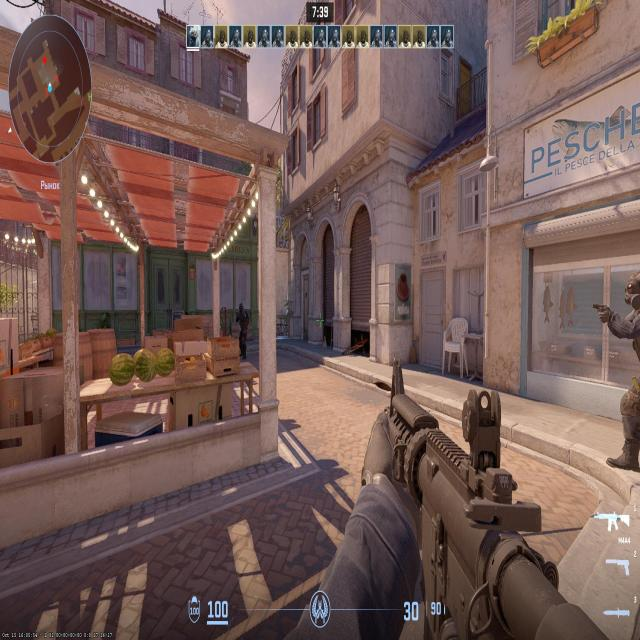CT: (624, 276, 639, 458), (238, 305, 247, 352)
CT_heat: (627, 281, 636, 303), (239, 306, 244, 316)
